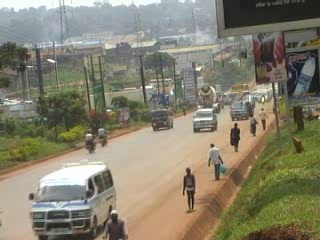Car: (188, 106, 219, 133)
Motorcycle: (79, 129, 99, 154), (95, 126, 110, 148), (257, 93, 267, 106)
